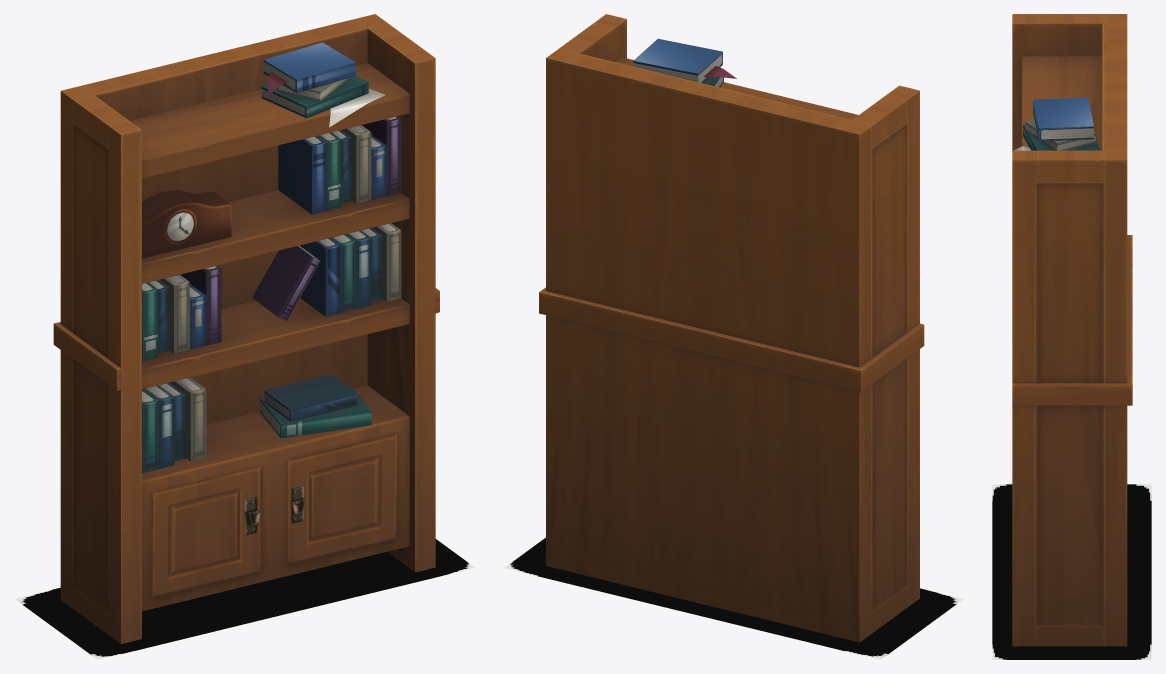
File: jj_ty_shugui01.FBX
3 renders of one model, left to right at view 1: azimuth 30°, elevation 25°; view 2: azimuth 150°, elevation 25°; view 3: azimuth 270°, elevation 25°, orthographic. The views are drawn at different scales.
Parts seen in each view (by area): view 1: jj_ty_shugui01, shadow; view 2: jj_ty_shugui01, shadow; view 3: jj_ty_shugui01, shadow.
Boxes of the visible parts, <box> form: jj_ty_shugui01: <box>53,14,439,643</box>; shadow: <box>15,539,474,659</box>; jj_ty_shugui01: <box>539,14,924,642</box>; shadow: <box>504,537,963,659</box>; jj_ty_shugui01: <box>1011,14,1132,646</box>; shadow: <box>992,484,1151,659</box>.
Size of the model in its own units: 1709 by 2222 by 654.
